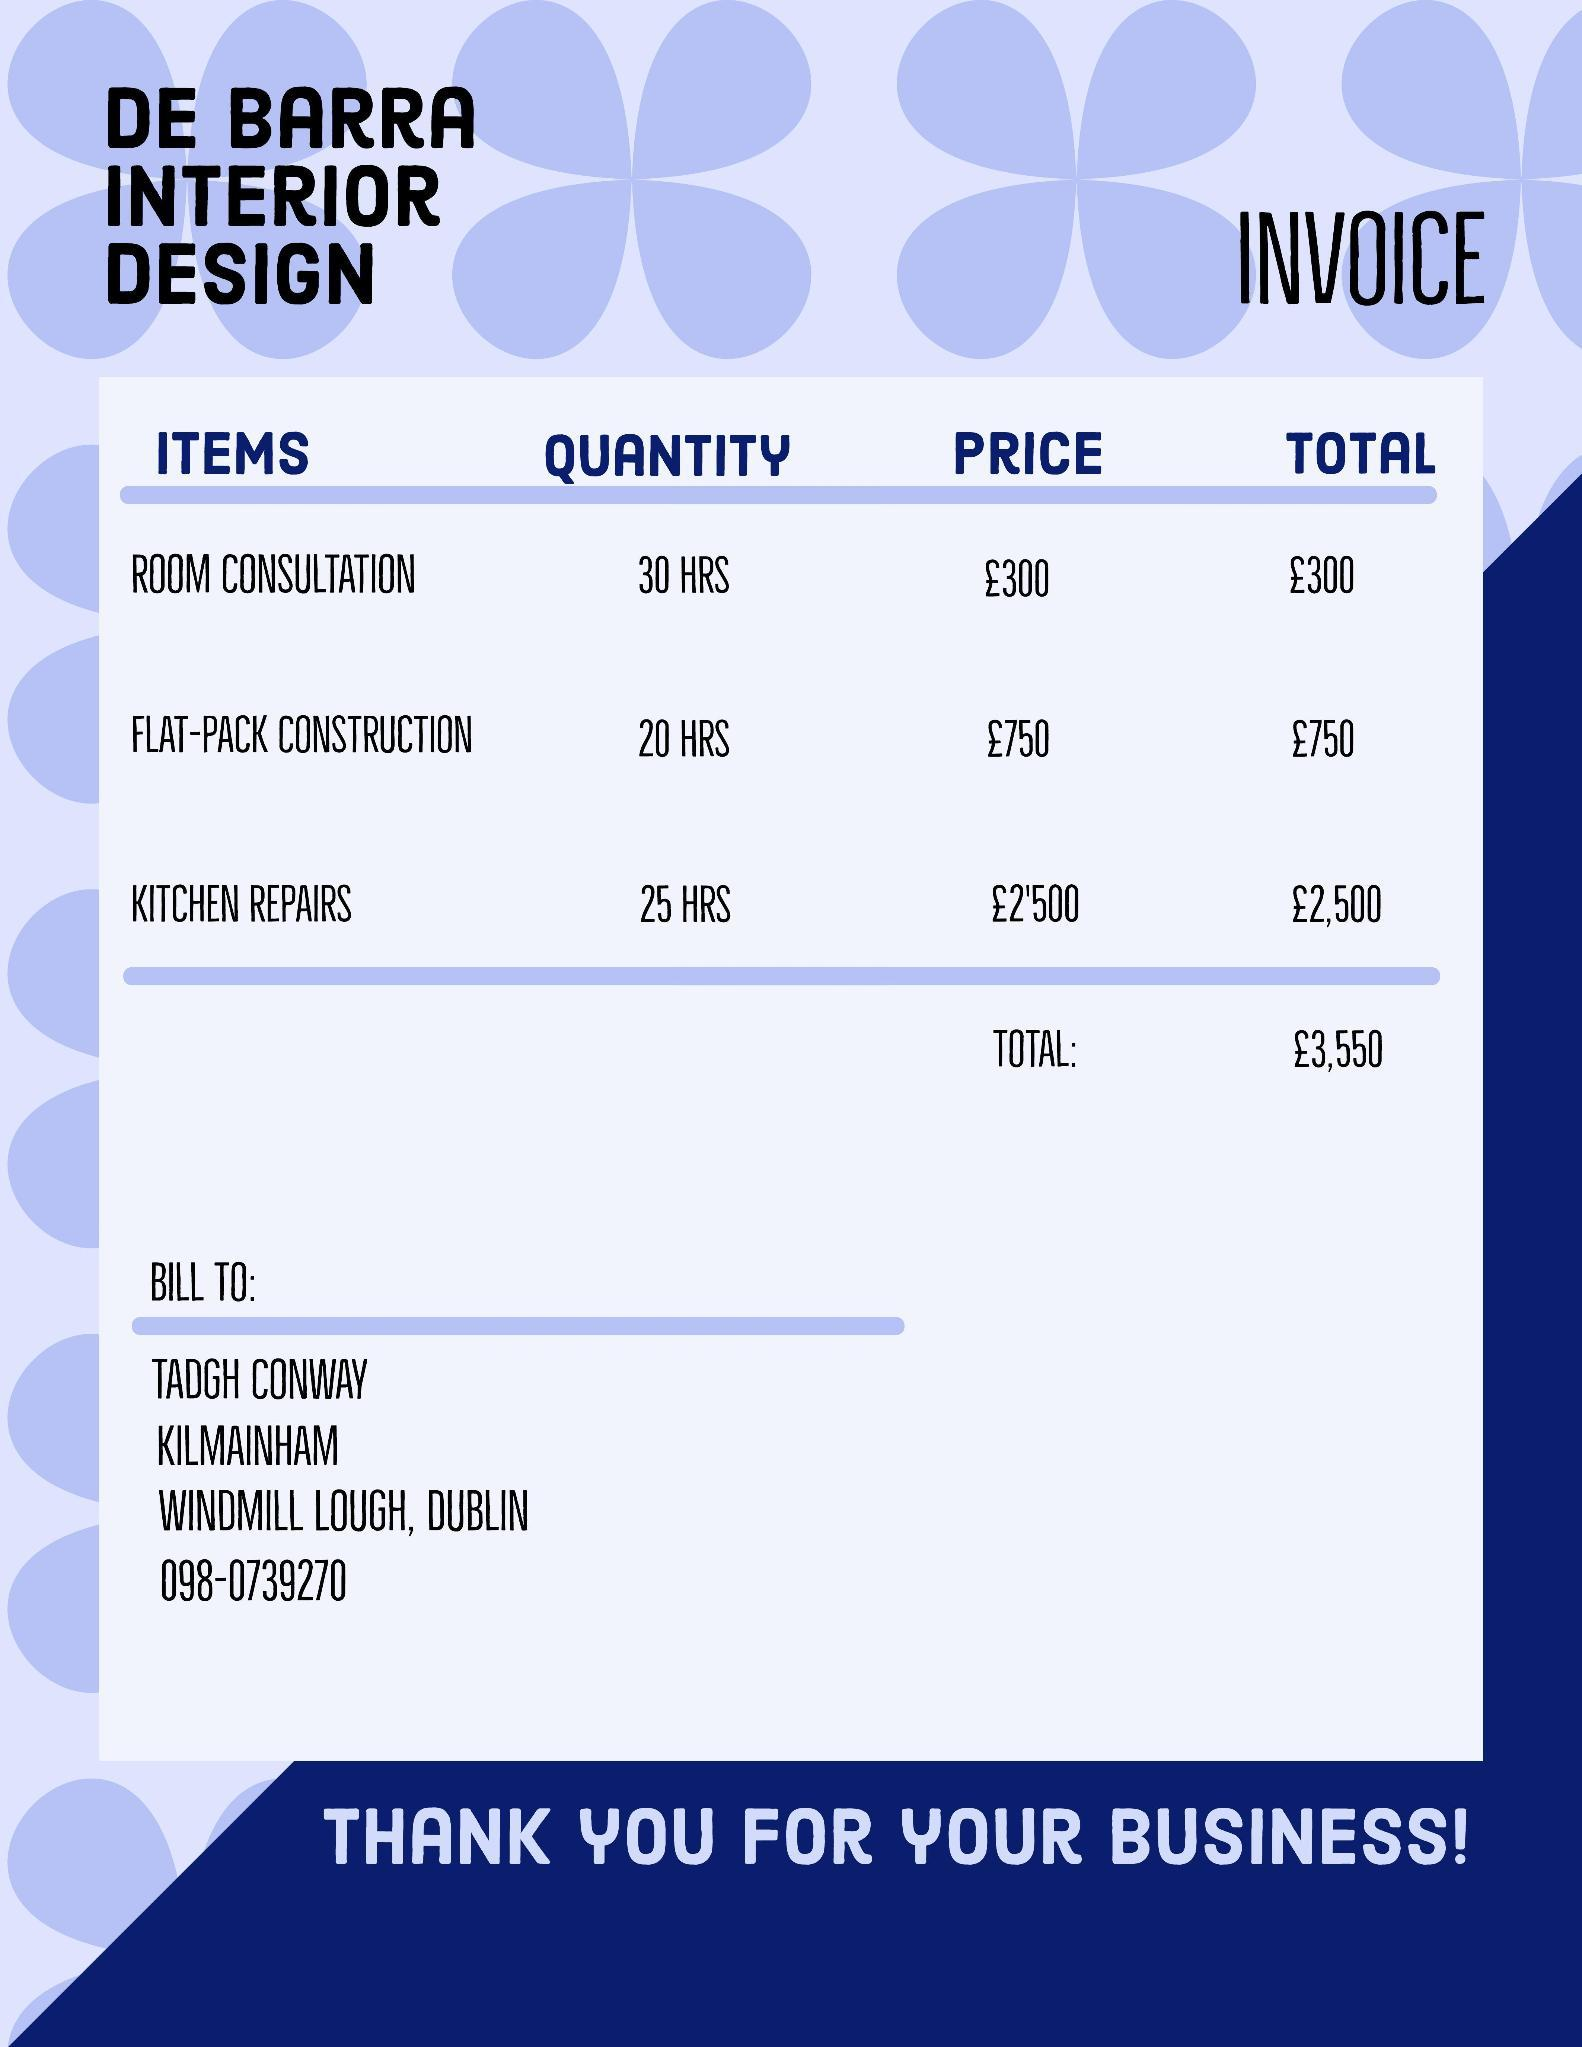ROI: (102, 370, 1465, 1111), (132, 1215, 575, 1626), (310, 1782, 1486, 1895), (76, 72, 500, 318), (1219, 187, 1510, 335), (966, 1007, 1433, 1096)
